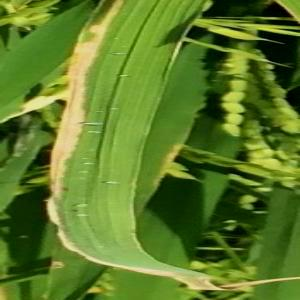2 BacterialBlight: (47, 45, 146, 261)
